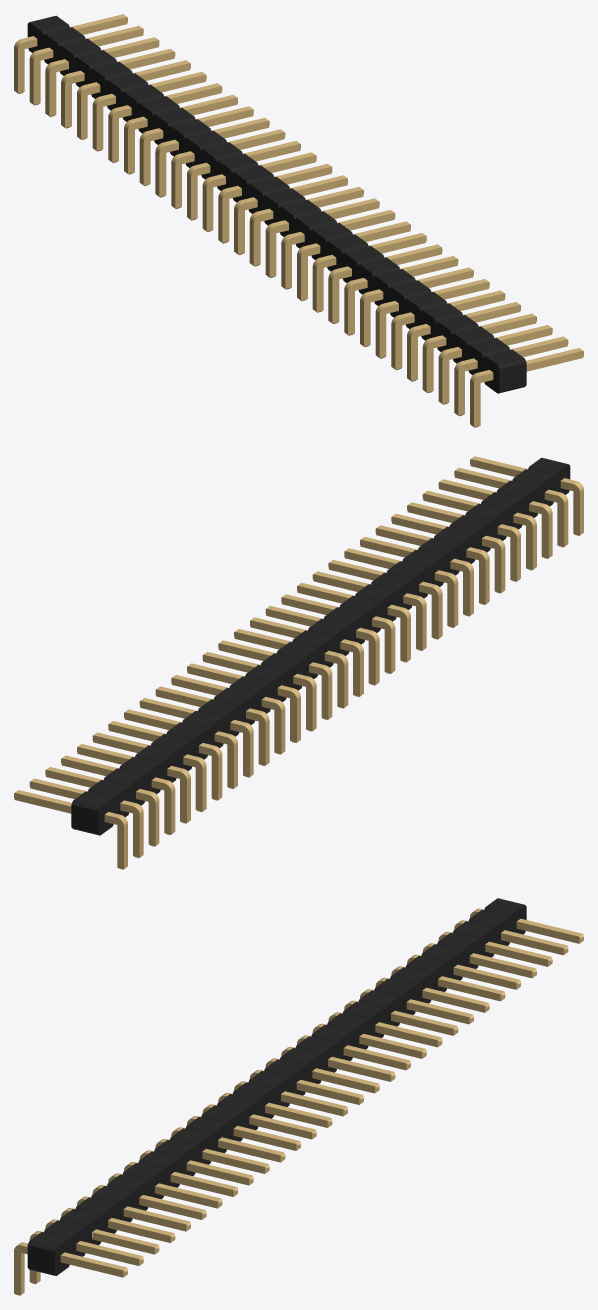
The model's file is kc-pinheader_1x30_p2.54mm_horizontal.glb.
The picture shows the model from 3 angles, top to bottom: view 1: azimuth 30°, elevation 25°; view 2: azimuth 150°, elevation 25°; view 3: azimuth 330°, elevation 25°; orthographic projection.
Parts seen in each view (by area): view 1: 0.75_0.5_0.25_0.9, 0_0_0_0; view 2: 0.75_0.5_0.25_0.9, 0_0_0_0; view 3: 0.75_0.5_0.25_0.9, 0_0_0_0.
Part boxes in pixels (box(x1,y1,x2,y2)): 0.75_0.5_0.25_0.9: box(14, 14, 583, 427); 0_0_0_0: box(27, 15, 526, 393); 0.75_0.5_0.25_0.9: box(14, 456, 583, 869); 0_0_0_0: box(71, 457, 570, 835); 0.75_0.5_0.25_0.9: box(14, 908, 583, 1295); 0_0_0_0: box(27, 898, 526, 1275).
Bounding box in the file's own units: 1.04 × 0.5539 × 7.62.
